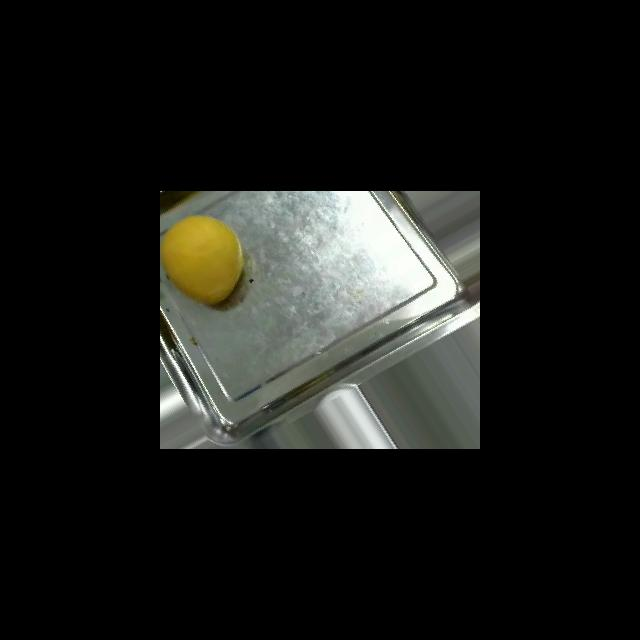Mango: (160, 214, 244, 305)
